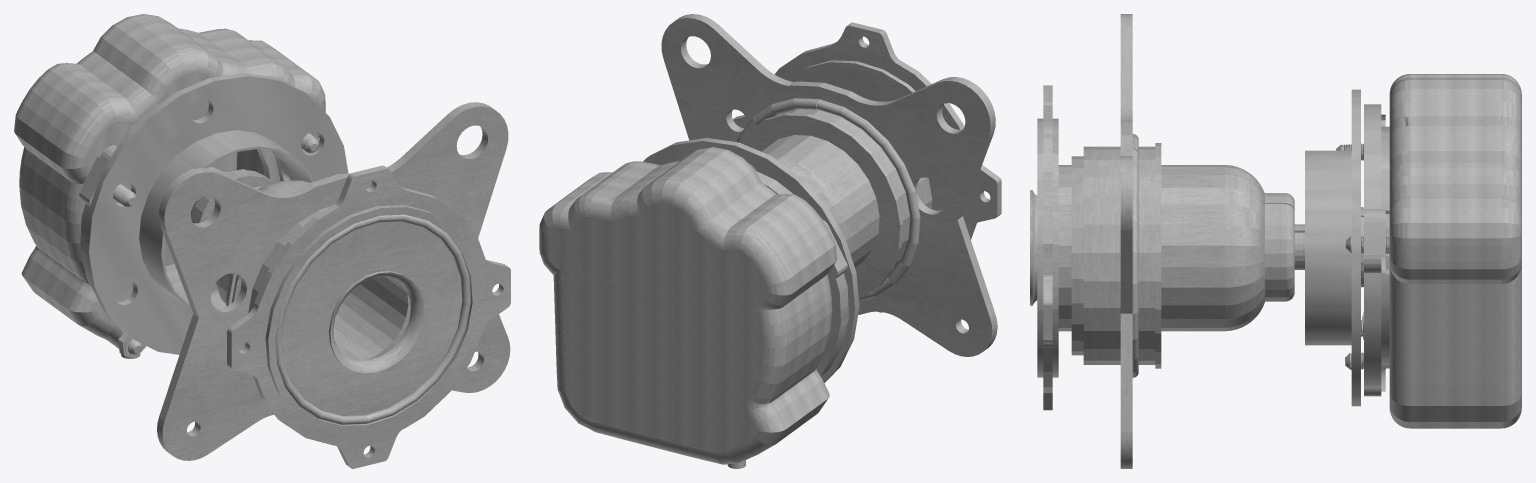
3 views of the same model, side by side, from view 1: azimuth 30°, elevation 25°; view 2: azimuth 150°, elevation 25°; view 3: azimuth 270°, elevation 25° (orthographic). The views are drawn at different scales.
Parts seen in each view (by area): view 1: 1.002, 1, 1.001; view 2: 1, 1.002, 1.001; view 3: 1, 1.002, 1.001.
Part boxes in pixels (x1,y1,x2,y2): 1.002: (157,102,510,468); 1: (14,14,325,348); 1.001: (84,73,348,354); 1: (539,147,848,464); 1.002: (661,14,1001,356); 1.001: (643,138,859,382); 1: (1364,74,1521,428); 1.002: (1030,14,1363,468); 1.001: (1305,89,1360,406).
Bounding box in the file's own units: 330 × 284 × 382.
Materials: 10 (8 with a texture image).
